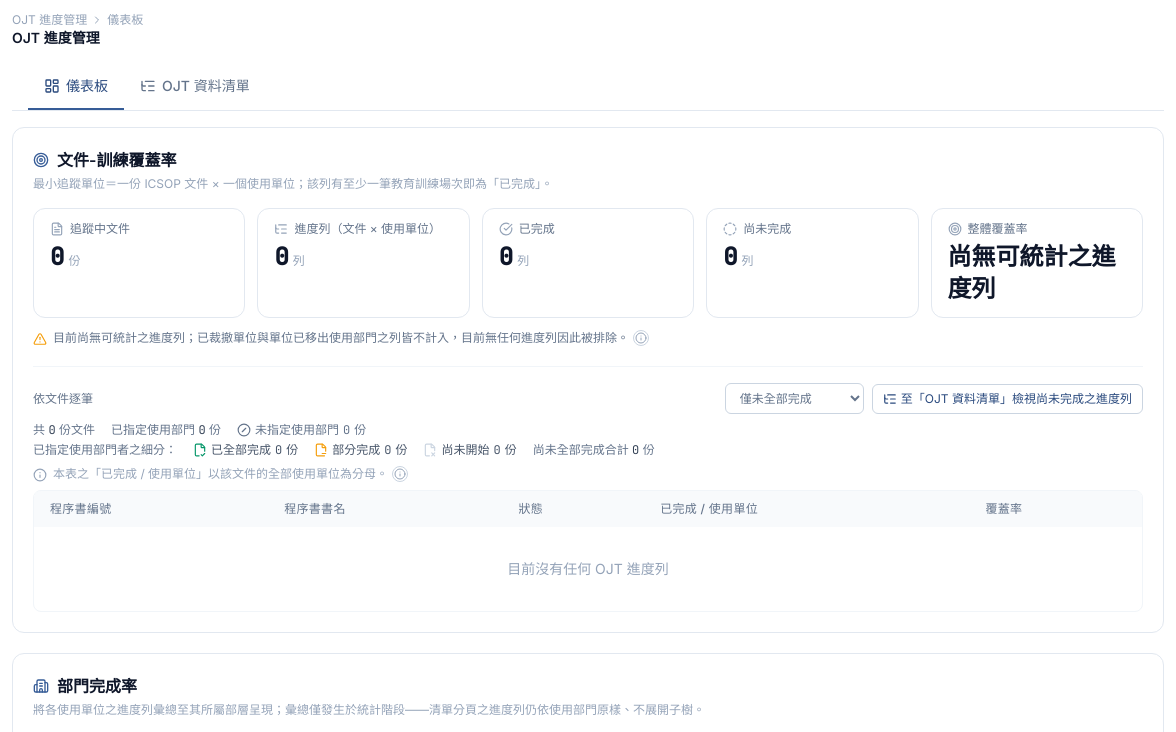
Test: OjtProgressPage — UX16 delta AC-UX45（本部四段 orgName 之呈現，pass-through） › 四段格式之 orgName（含本部）逐字顯示，不被截斷或重新格式化為三段
The width and height of the screenshot is (1176, 732).
Click the tab "OJT 資料清單" at (195, 87), box [124, 64, 266, 110]
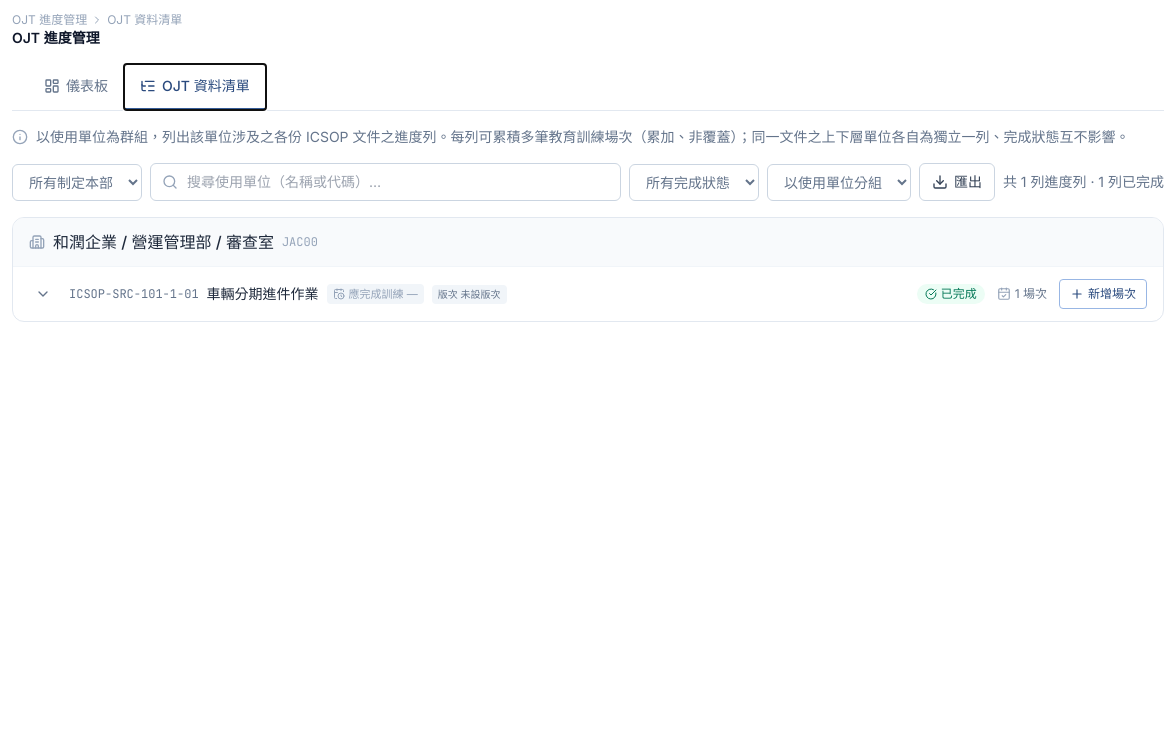
expect the element showing "匯出 共 1 列進度列 · 1 列已完成" is shown: met, box [12, 163, 1164, 201]
expect the text "和潤企業 / 營運管理部 / 審查室" is shown: met, box [53, 230, 274, 254]
